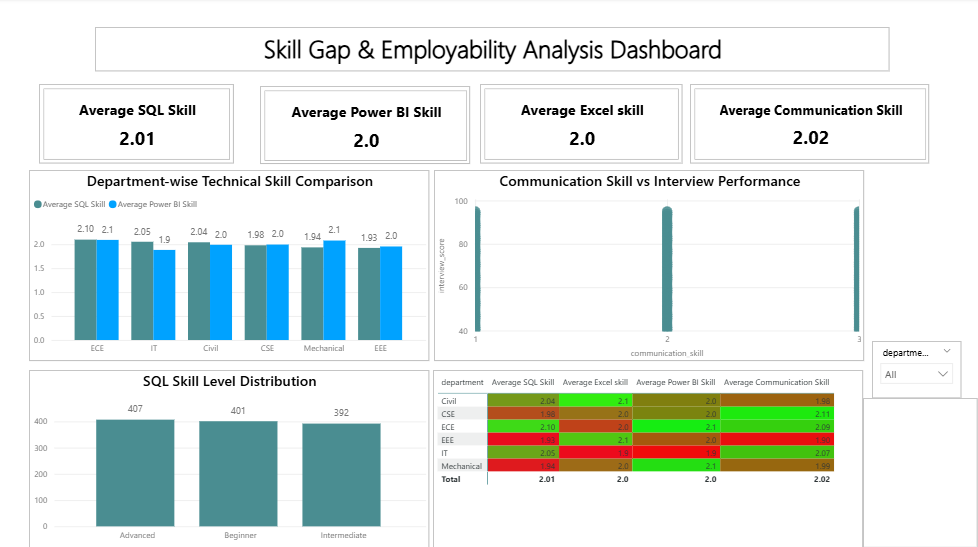

The dashboard page shown, as its layout file describes it:
{"tool":"powerbi","page":{"name":"Skill Gap & Employability Analysis","canvas":[1280,720],"ordinal":2},"visuals":[{"type":"cardVisual","fields":{"Data":["skills.Average SQL Skill"]},"box":[51.2,112.7,254.6,103.9],"z":0},{"type":"cardVisual","fields":{"Data":["skills.Average Power BI Skill"]},"box":[341,115.6,275.1,102.4],"z":1000},{"type":"cardVisual","fields":{"Data":["skills.Average Excel skill"]},"box":[627.8,112.7,264.9,103.9],"z":2000},{"type":"cardVisual","fields":{"Data":["skills.Average Communication Skill"]},"box":[902.9,112.7,313.2,103.9],"z":3000},{"type":"clusteredColumnChart","title":"Department-wise Technical Skill Comparison","fields":{"Category":["students.department"],"Y":["skills.Average SQL Skill","skills.Average Power BI Skill"]},"box":[38,225.4,523.9,250.2],"z":4000},{"type":"scatterChart","title":"Communication Skill vs Interview Performance","fields":{"Y":["placements.interview_score"],"X":["skills.communication_skill"]},"box":[567.8,225.4,563.4,250.2],"z":5000},{"type":"columnChart","title":"SQL Skill Level Distribution","fields":{"Y":["CountNonNull(students.student_id)"],"Category":["skills.SQL Skill Level"]},"box":[38,487.3,523.9,232.7],"z":6000},{"type":"pivotTable","fields":{"Rows":["students.department"],"Values":["skills.Average SQL Skill","skills.Average Excel skill","skills.Average Power BI Skill","skills.Average Communication Skill"]},"box":[567.4,486.7,563,233.3],"z":7000},{"type":"slicer","fields":{"Values":["students.department","students.gender"]},"box":[1141.9,449.3,116.6,74.9],"z":8000},{"type":"textbox","box":[123.8,37.4,1039.7,57.6],"z":9000},{"type":"textbox","box":[1130,524,150,196],"z":9001}]}

Visuals, with their boxes in screenshot pixels (x1, y1, x2, y2), scaled from the page's 1280x720 canvas onto the 978x547 screenshot:
cardVisual - skills.Average SQL Skill: bbox(39, 86, 234, 165)
cardVisual - skills.Average Power BI Skill: bbox(261, 88, 471, 166)
cardVisual - skills.Average Excel skill: bbox(480, 86, 682, 165)
cardVisual - skills.Average Communication Skill: bbox(690, 86, 929, 165)
"Department-wise Technical Skill Comparison" clusteredColumnChart: bbox(29, 171, 429, 361)
"Communication Skill vs Interview Performance" scatterChart: bbox(434, 171, 864, 361)
"SQL Skill Level Distribution" columnChart: bbox(29, 370, 429, 546)
pivotTable - students.department x skills.Average SQL Skill: bbox(434, 370, 864, 546)
slicer - students.department x students.gender: bbox(872, 341, 962, 398)
textbox: bbox(95, 28, 889, 72)
textbox: bbox(863, 398, 977, 546)
